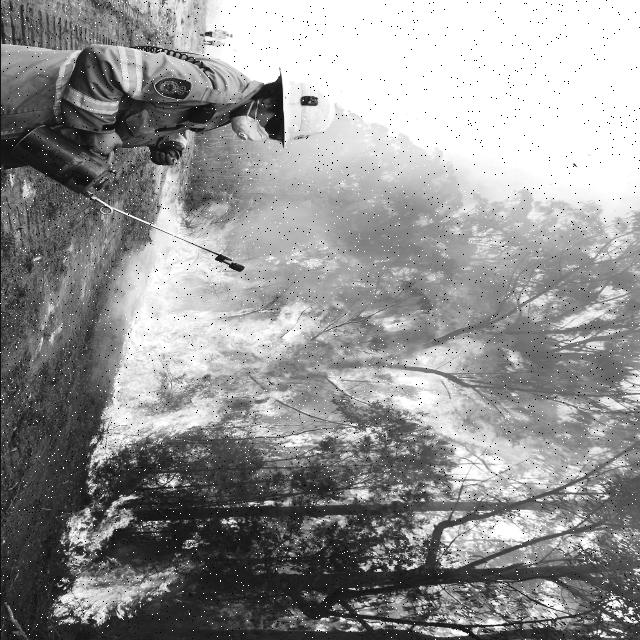api: (45, 230, 640, 628)
asap: (219, 123, 599, 299), (82, 169, 249, 373), (499, 308, 640, 448)
